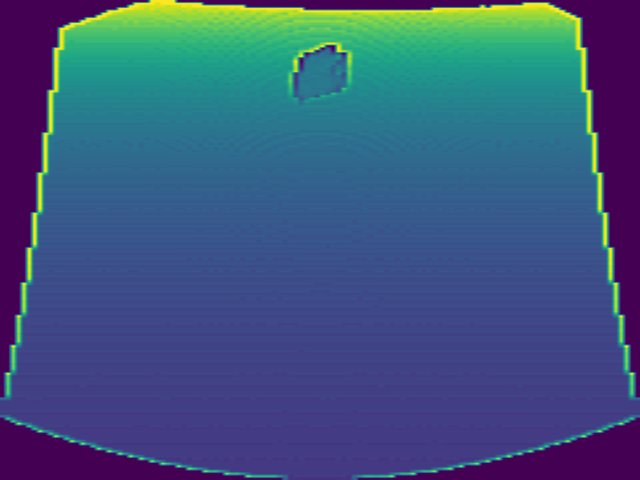car_0027: (285, 41, 352, 104)
